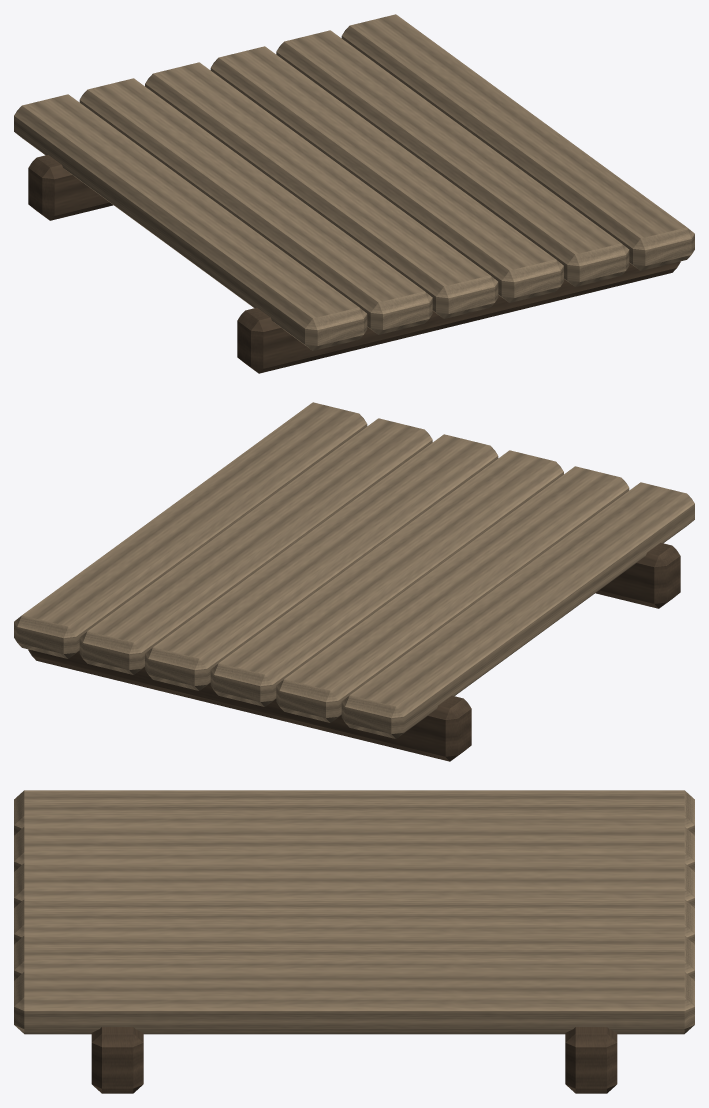
The model's file is trench_bridge.glb.
3 renders of one model, top to bottom at view 1: azimuth 30°, elevation 25°; view 2: azimuth 150°, elevation 25°; view 3: azimuth 270°, elevation 25°, orthographic. The views are drawn at different scales.
Visible parts, largest first — view 1: Timber worn edges, Dark endgrain; view 2: Timber worn edges, Dark endgrain; view 3: Timber worn edges, Dark endgrain.
Part boxes in pixels (x1=…): Timber worn edges: x1=14, y1=14, x2=694, y2=350; Dark endgrain: x1=28, y1=155, x2=680, y2=373; Timber worn edges: x1=14, y1=402, x2=694, y2=738; Dark endgrain: x1=28, y1=543, x2=680, y2=761; Timber worn edges: x1=14, y1=790, x2=694, y2=1034; Dark endgrain: x1=91, y1=1027, x2=617, y2=1093.
Bounding box in the file's own units: 0.76 × 0.1275 × 0.92.
2 materials, 2 textured.
